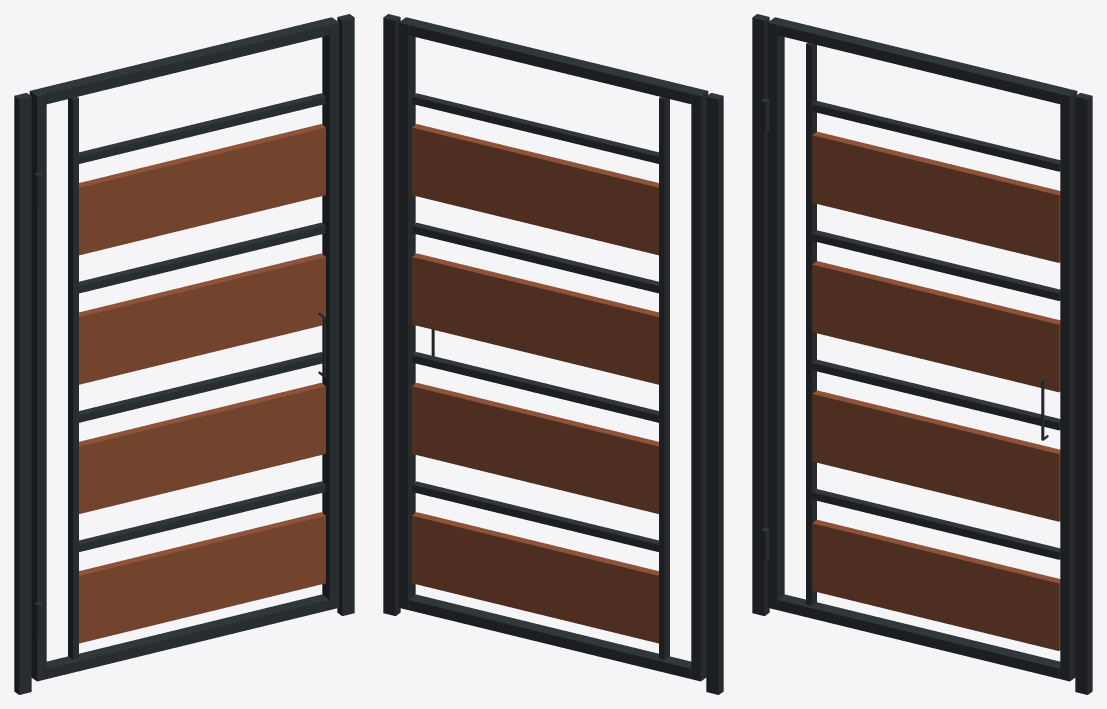
File: black-frame-brown-accent-gate-10.glb
The picture shows the model from 3 angles, left to right: view 1: azimuth 30°, elevation 25°; view 2: azimuth 150°, elevation 25°; view 3: azimuth 330°, elevation 25°; orthographic projection.
Visible parts, largest first — view 1: Leaf 1 / Brown accent board, Leaf 1 / Leaf frame, Outer installation jamb, Leaf 1 / Bars between boards, Leaf 1 / Inset stile beside open vertical gap; view 2: Leaf 1 / Brown accent board, Leaf 1 / Leaf frame, Outer installation jamb, Leaf 1 / Bars between boards, Leaf 1 / Inset stile beside open vertical gap; view 3: Leaf 1 / Brown accent board, Leaf 1 / Leaf frame, Outer installation jamb, Leaf 1 / Bars between boards, Leaf 1 / Inset stile beside open vertical gap.
Part boxes in pixels (box(x1,y1,x2,y2)): Leaf 1 / Brown accent board: box(79, 124, 325, 643); Leaf 1 / Leaf frame: box(29, 17, 339, 681); Outer installation jamb: box(14, 14, 354, 694); Leaf 1 / Bars between boards: box(79, 93, 325, 551); Leaf 1 / Inset stile beside open vertical gap: box(68, 97, 78, 659); Leaf 1 / Brown accent board: box(412, 124, 658, 643); Leaf 1 / Leaf frame: box(398, 17, 708, 681); Outer installation jamb: box(383, 14, 723, 694); Leaf 1 / Bars between boards: box(412, 93, 658, 551); Leaf 1 / Inset stile beside open vertical gap: box(659, 97, 669, 659); Leaf 1 / Brown accent board: box(812, 131, 1060, 650); Leaf 1 / Leaf frame: box(767, 17, 1077, 681); Outer installation jamb: box(752, 14, 1092, 694); Leaf 1 / Bars between boards: box(812, 101, 1060, 559); Leaf 1 / Inset stile beside open vertical gap: box(806, 43, 816, 605).
Size of the model in its own units: 1.2 by 2.02 by 0.088.
